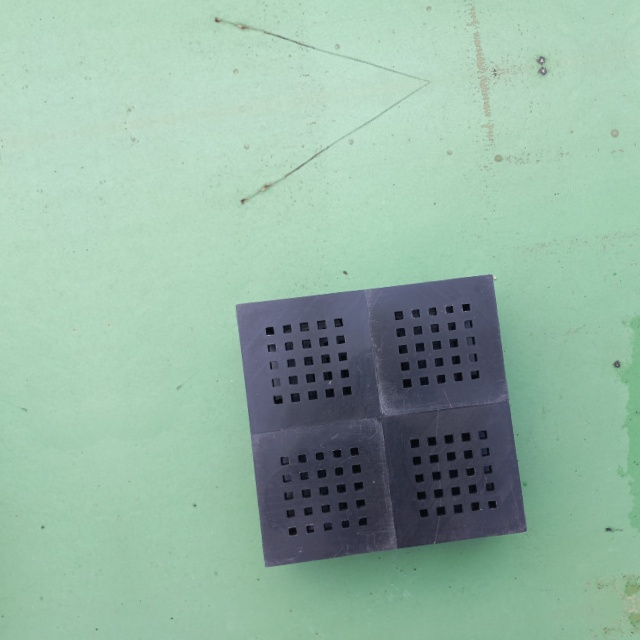pallet: (225, 263, 534, 576)
